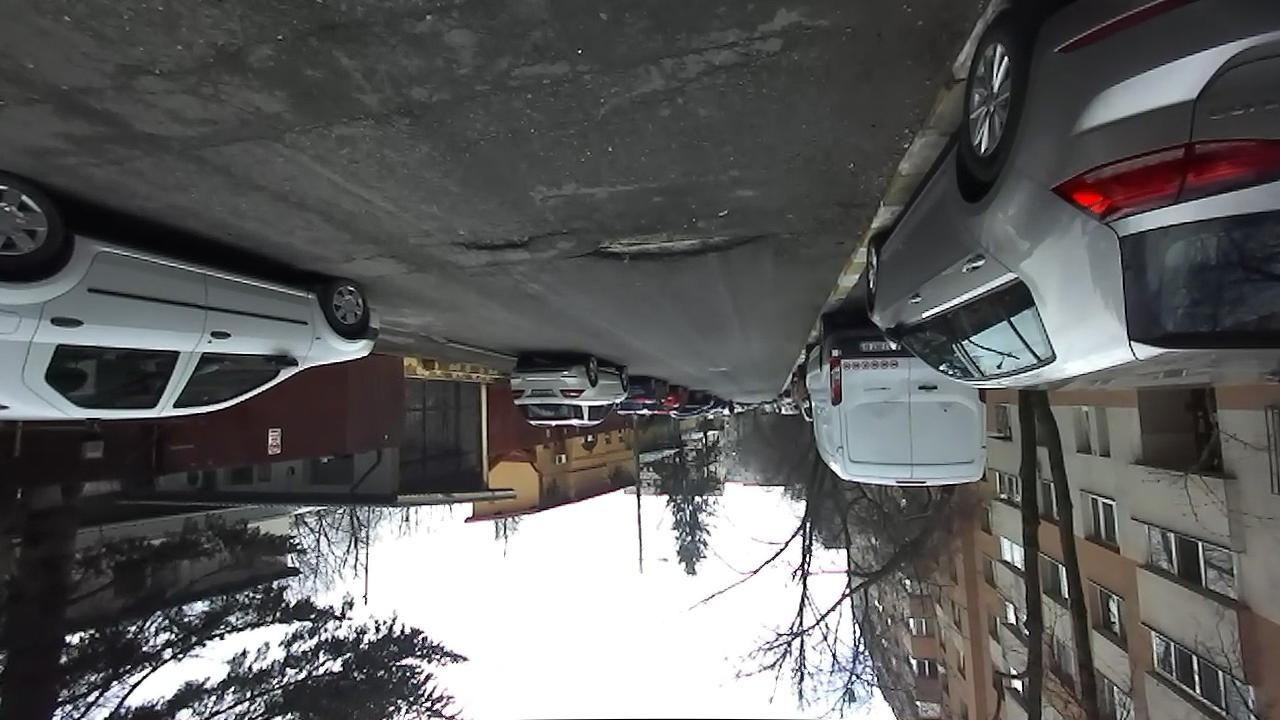pothole: (574, 225, 775, 266), (447, 225, 558, 255)
